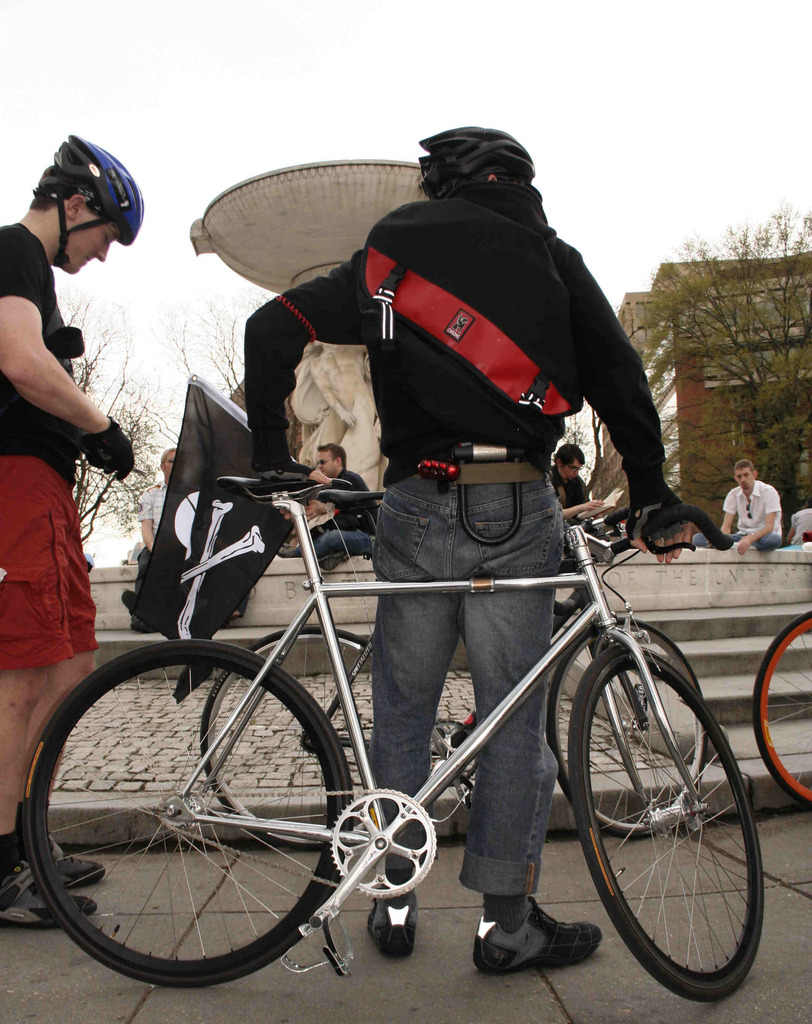Bike: (101, 411, 692, 988)
